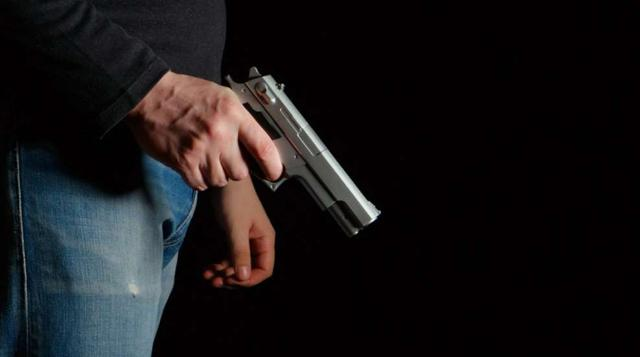handgun: (207, 60, 385, 240)
